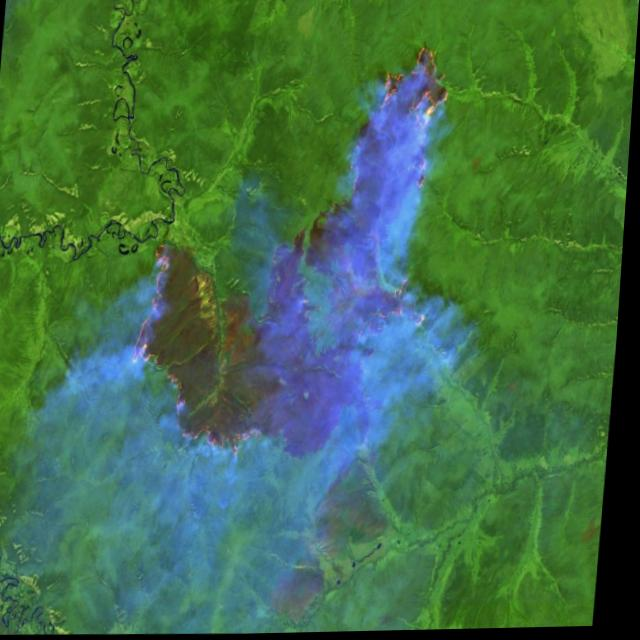fire: (127, 236, 288, 463), (361, 39, 456, 344)
